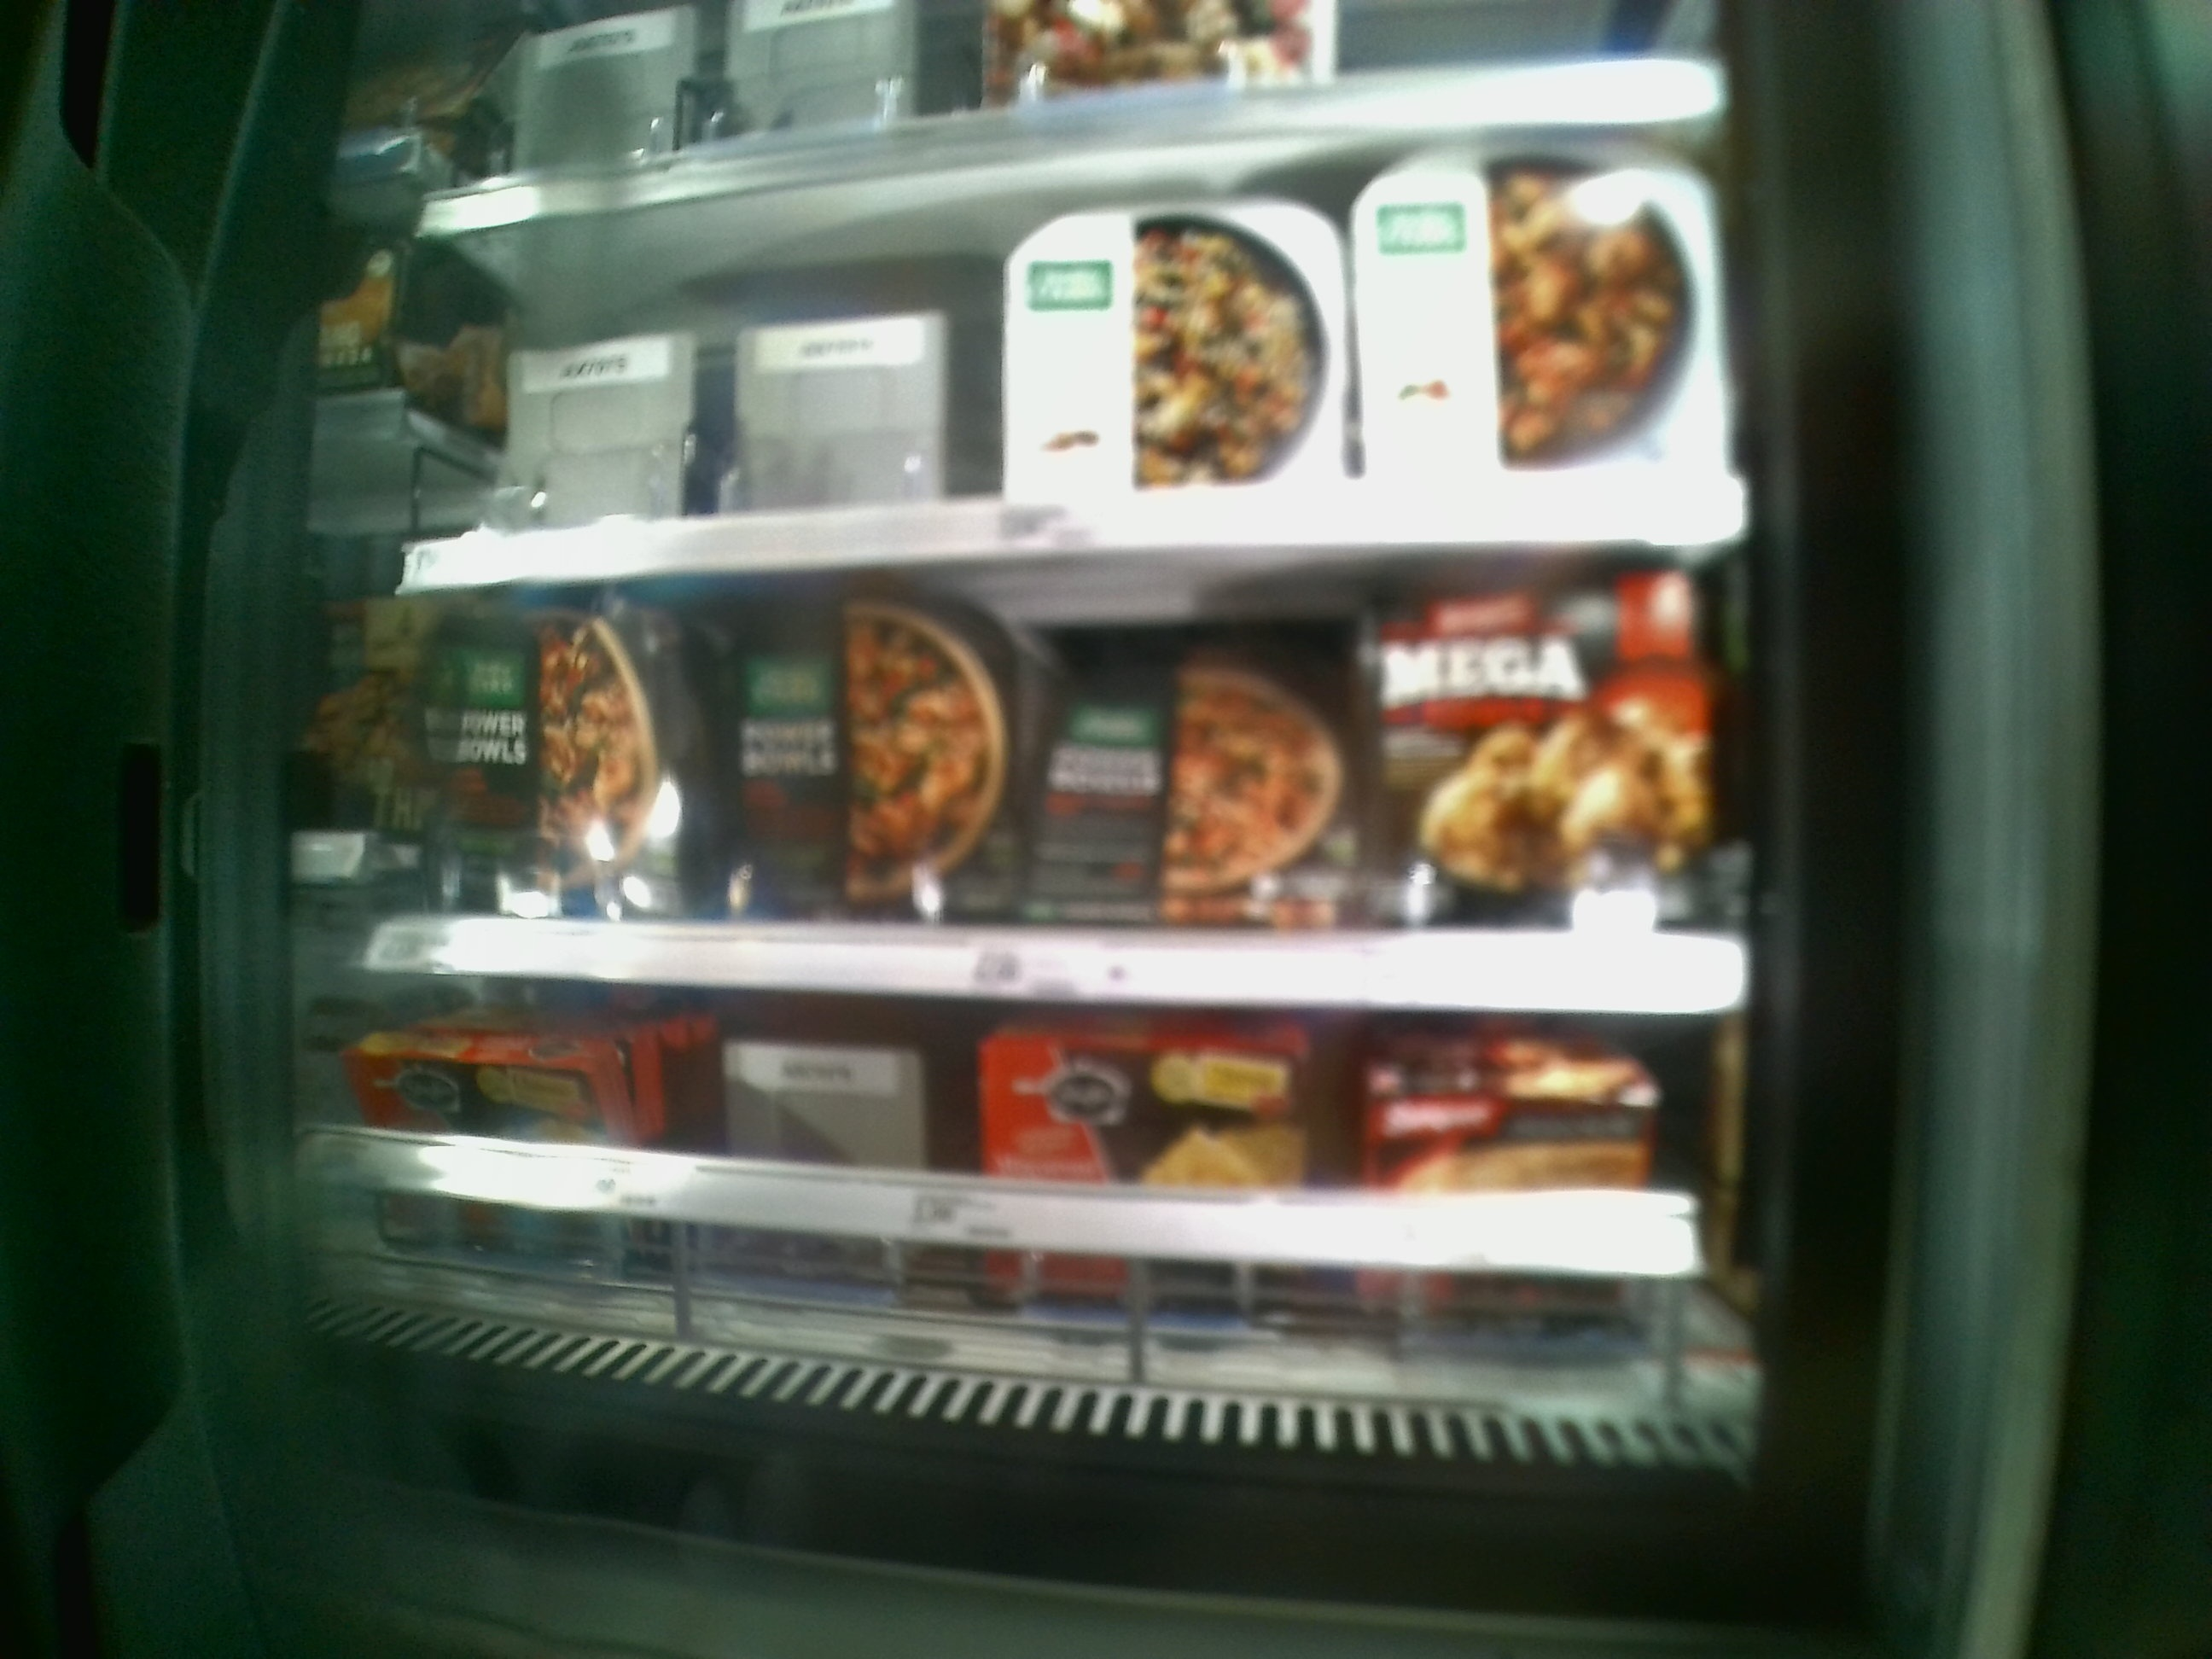shelf: (376, 526, 1743, 1009), (347, 964, 1740, 1399)
